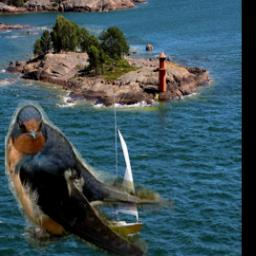Swallow: (5, 100, 175, 256)
